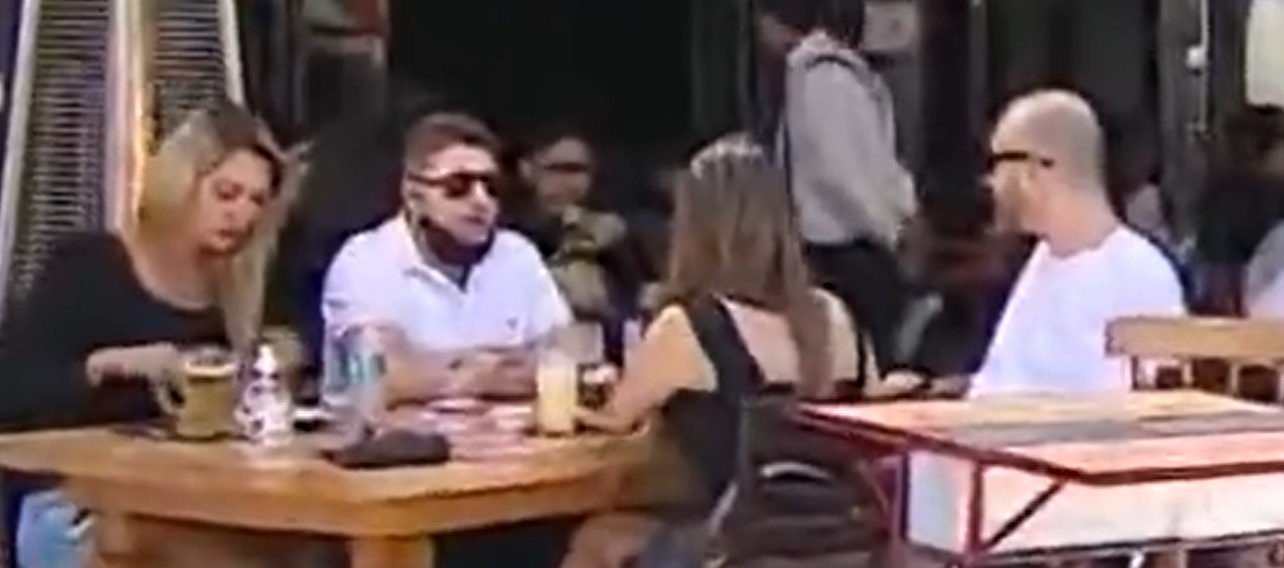mask_weared_incorrect: (399, 127, 506, 272)
